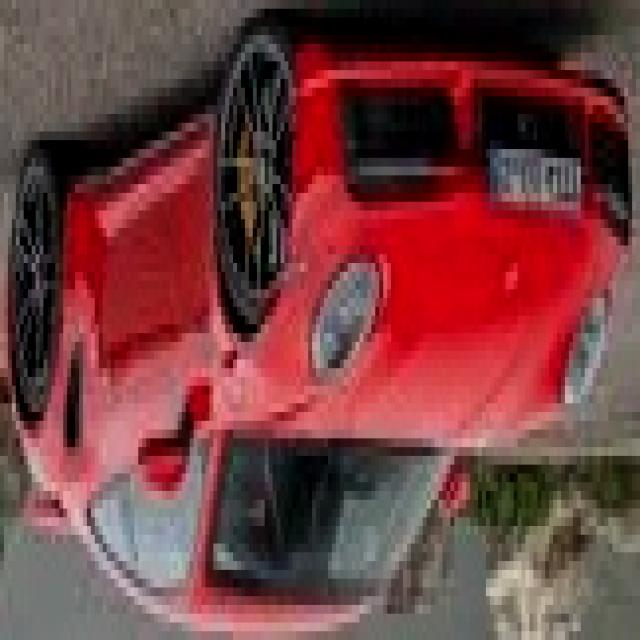red: (11, 57, 640, 636)
